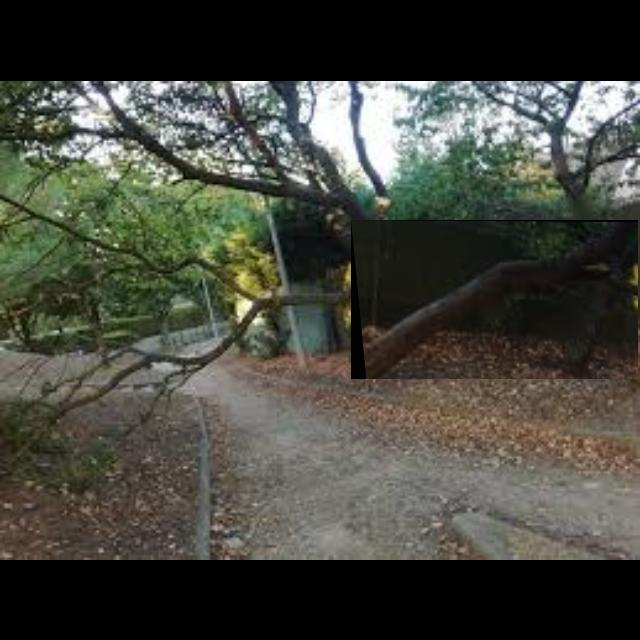Fallen Tree: (351, 220, 639, 380)
